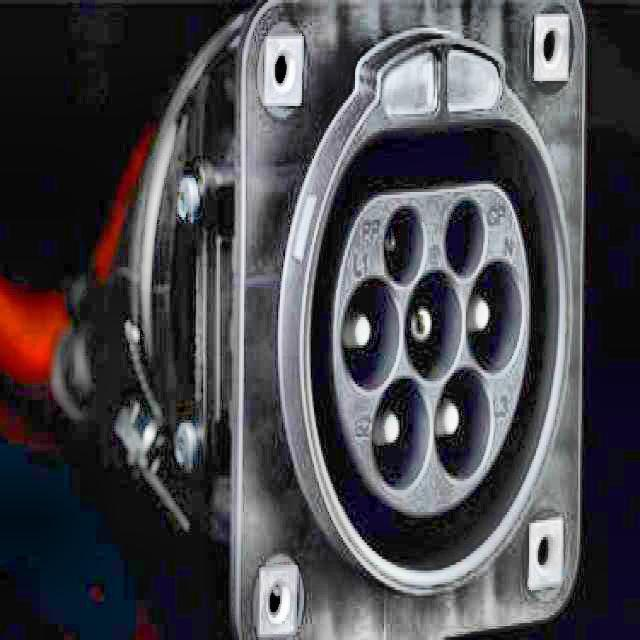inlet: (333, 184, 529, 515)
inlet-above-left: (384, 205, 424, 286)
inlet-above-right: (444, 199, 484, 279)
inlet-below-left: (371, 375, 430, 490)
inlet-below-right: (434, 366, 491, 482)
inlet-center: (404, 268, 462, 382)
inlet-center-left: (340, 275, 400, 391)
inlet-center-right: (466, 259, 522, 374)
